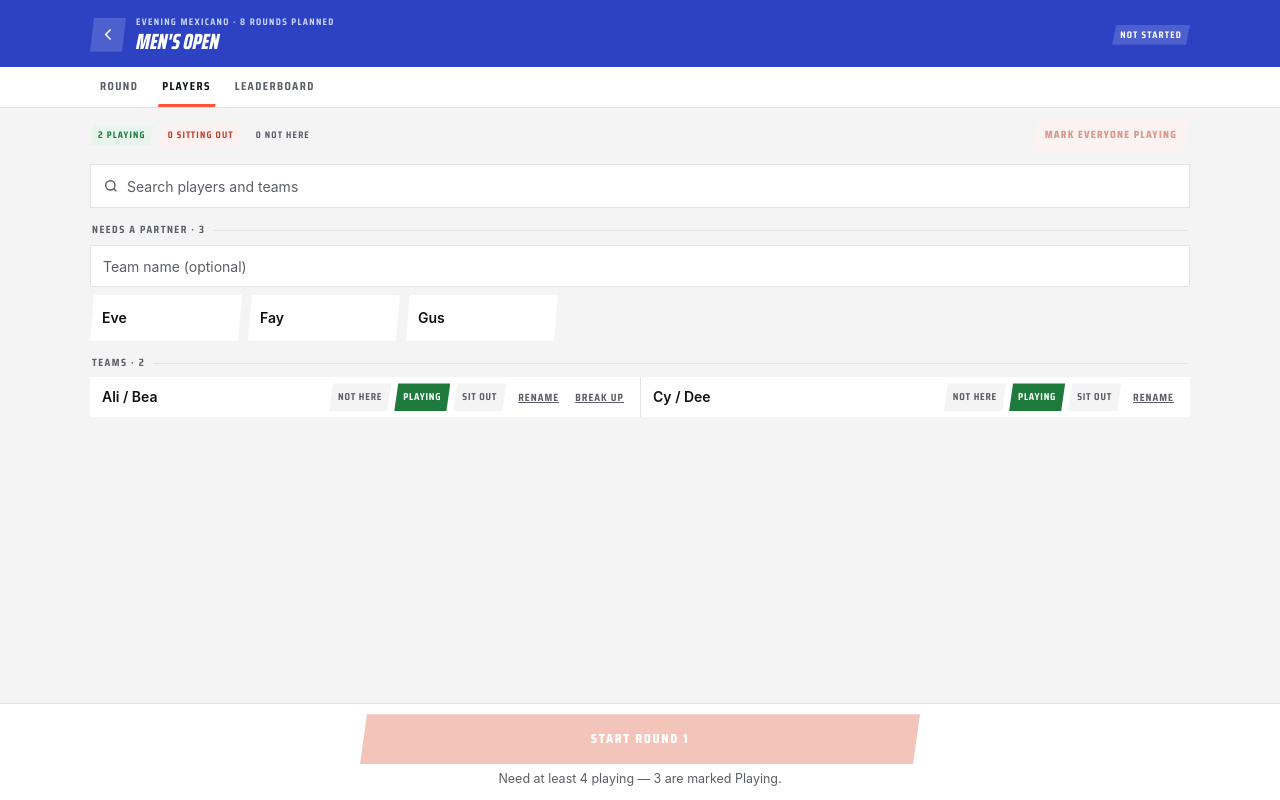
Test: renames a team, also one that has played, and shows its players under the new name
The image size is (1280, 800).
Expected: the heading "Needs a partner · 3" is shown, [92, 221, 205, 238]
Click the button with aria-label "Rename Cy / Dee" at (1154, 397), box [1129, 379, 1178, 415]
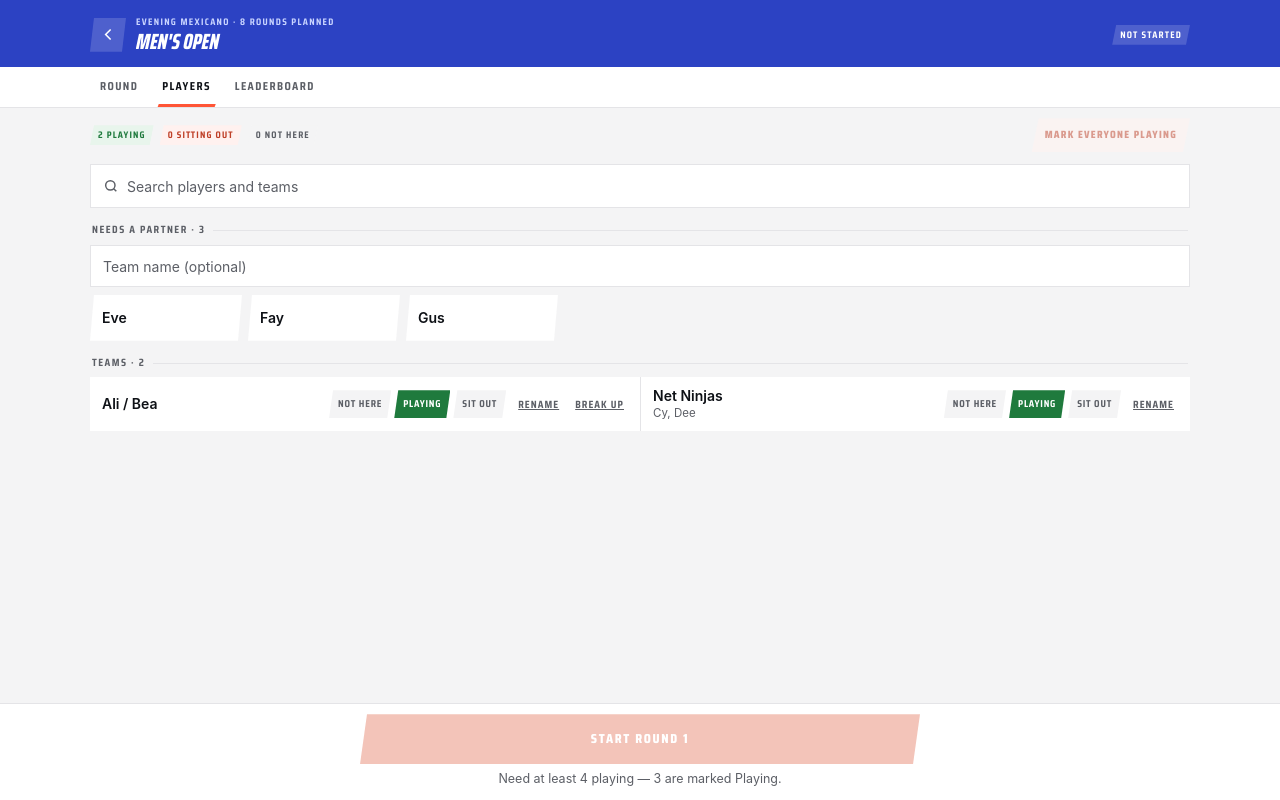
Expected: the text "Net Ninjas" is shown, [653, 387, 723, 404]
Expected: the text "Cy, Dee" is shown, [653, 406, 696, 420]
